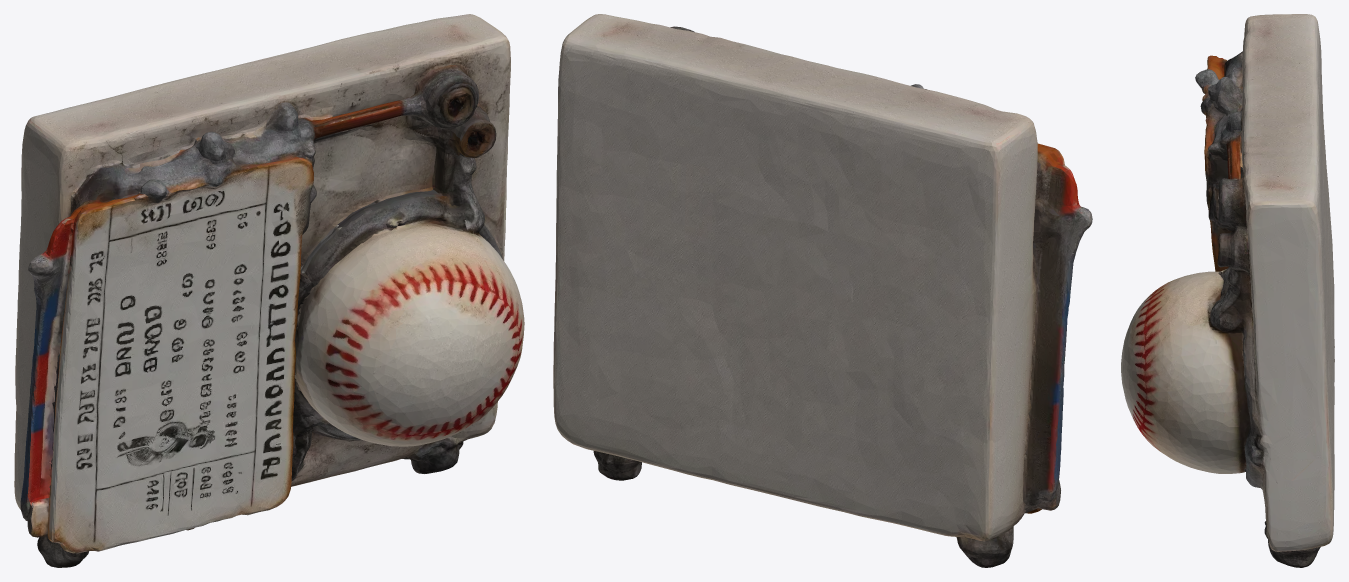
Rendered from tail (305).glb.
3 views of the same model, side by side, from view 1: azimuth 30°, elevation 25°; view 2: azimuth 150°, elevation 25°; view 3: azimuth 270°, elevation 25° (orthographic). The views are drawn at different scales.
Visible parts, largest first — view 1: Hy21_Mesh.obj; view 2: Hy21_Mesh.obj; view 3: Hy21_Mesh.obj.
Boxes of the visible parts, x1,y1,x2,y2 form: Hy21_Mesh.obj: (14,14,524,567); Hy21_Mesh.obj: (553,14,1092,567); Hy21_Mesh.obj: (1121,14,1334,567).
Size of the model in its own units: 1.95 by 1.67 by 0.8401.
Materials: 1 (1 with a texture image).
